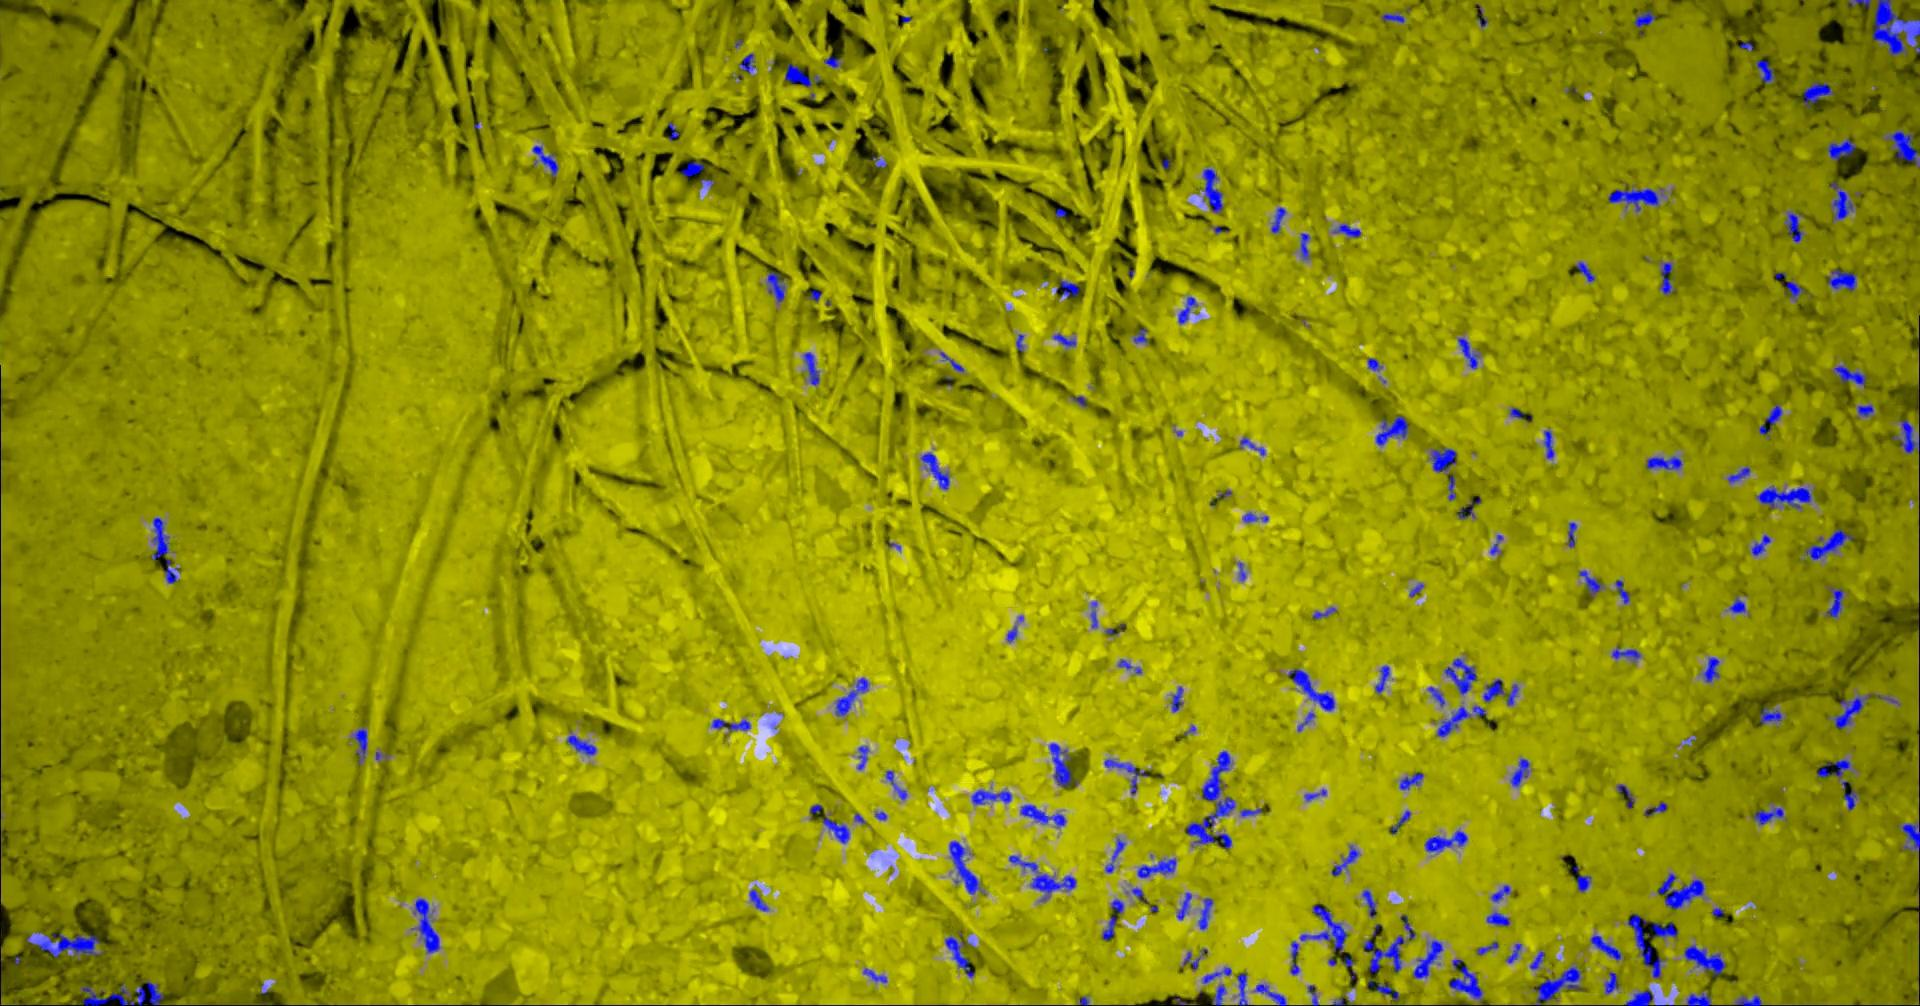ant: (1625, 915, 1677, 977), (1008, 855, 1076, 901), (1363, 915, 1415, 972), (1299, 904, 1347, 951), (1832, 694, 1897, 728), (1288, 668, 1335, 710), (81, 981, 163, 1005), (1531, 967, 1581, 1005), (949, 840, 982, 894), (25, 934, 103, 956), (1657, 873, 1704, 909), (1103, 758, 1147, 794), (411, 898, 439, 951), (1804, 528, 1853, 559), (1683, 944, 1724, 977), (1448, 959, 1482, 998), (1755, 485, 1811, 508), (1608, 188, 1662, 211), (1049, 743, 1077, 788), (943, 936, 974, 977), (836, 677, 867, 715), (1412, 939, 1443, 978), (1444, 658, 1476, 694), (1888, 130, 1919, 166), (919, 452, 949, 489), (1020, 804, 1065, 827), (1436, 706, 1470, 735), (1375, 415, 1408, 445), (1891, 419, 1919, 453), (150, 517, 173, 559), (1423, 829, 1467, 851), (1203, 168, 1222, 212), (1331, 845, 1357, 876), (1590, 934, 1622, 960), (783, 64, 820, 86), (1801, 81, 1834, 107), (1830, 180, 1851, 218), (532, 145, 557, 177), (822, 815, 850, 843), (1757, 404, 1782, 436), (1457, 337, 1479, 368), (1137, 857, 1175, 876), (1105, 837, 1125, 873), (1255, 983, 1286, 1005), (1816, 760, 1850, 779), (1834, 365, 1865, 385), (1431, 447, 1457, 473), (1578, 570, 1603, 597), (1826, 138, 1855, 160), (971, 789, 1011, 804), (1827, 269, 1857, 290), (885, 770, 905, 799), (352, 727, 367, 765), (1368, 981, 1398, 1000), (1897, 823, 1919, 850), (1785, 211, 1803, 243), (767, 271, 785, 302), (566, 735, 596, 754), (803, 352, 819, 385), (1177, 296, 1197, 323), (1752, 807, 1783, 824), (1644, 455, 1683, 469), (1510, 758, 1529, 786), (1658, 262, 1675, 293), (1826, 586, 1843, 617), (1633, 10, 1655, 34), (1457, 497, 1481, 518), (711, 718, 750, 730), (1482, 678, 1503, 701), (938, 351, 963, 371), (1702, 655, 1719, 682), (1203, 967, 1230, 983), (1755, 58, 1774, 83), (1239, 436, 1263, 455), (1390, 810, 1410, 835), (1841, 780, 1857, 809), (1624, 989, 1653, 1005), (1197, 897, 1211, 929), (1055, 279, 1079, 297), (1572, 866, 1590, 890), (1374, 666, 1389, 694), (1176, 892, 1191, 920), (1784, 281, 1804, 301), (1751, 533, 1770, 555), (749, 889, 768, 911), (1611, 647, 1641, 661), (1361, 889, 1375, 917), (1575, 260, 1594, 281), (163, 558, 178, 583), (1101, 915, 1116, 940), (1759, 708, 1782, 724), (1399, 772, 1422, 789), (1617, 784, 1633, 807), (1236, 972, 1247, 1005), (1333, 224, 1360, 238), (1271, 207, 1285, 232), (681, 161, 703, 177), (1727, 466, 1750, 481), (1486, 911, 1509, 926), (738, 53, 756, 72), (1297, 711, 1314, 730), (1615, 579, 1629, 603), (1117, 659, 1142, 673), (1427, 686, 1444, 706), (1170, 686, 1182, 711), (1543, 431, 1554, 459), (1644, 801, 1667, 815), (1476, 941, 1498, 955), (863, 968, 886, 982), (1505, 942, 1521, 962), (1490, 885, 1510, 901), (1051, 333, 1076, 345), (1290, 940, 1299, 974), (1604, 972, 1618, 993), (1728, 596, 1745, 614), (1183, 951, 1200, 969), (1211, 984, 1225, 1005), (1312, 607, 1336, 619), (1686, 993, 1710, 1005), (1299, 232, 1309, 259), (1242, 512, 1269, 522), (1529, 951, 1544, 969), (1735, 995, 1761, 1005), (1126, 887, 1145, 901), (857, 746, 869, 768), (1303, 789, 1326, 800), (1133, 326, 1148, 343), (1506, 683, 1517, 705), (1566, 522, 1576, 546), (1307, 984, 1318, 1005), (667, 121, 678, 140), (1857, 404, 1873, 417), (1382, 13, 1404, 22), (1090, 601, 1097, 627), (823, 55, 838, 67), (1448, 475, 1455, 500), (1110, 898, 1123, 913), (1368, 357, 1382, 370), (1848, 0, 1870, 8), (1239, 808, 1262, 815), (1006, 625, 1016, 641)
